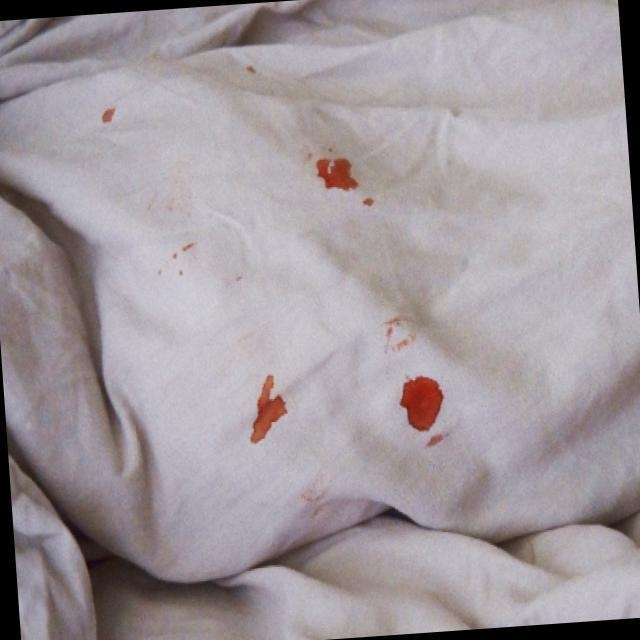blood: (245, 370, 292, 446), (396, 372, 446, 435), (312, 157, 361, 195)
